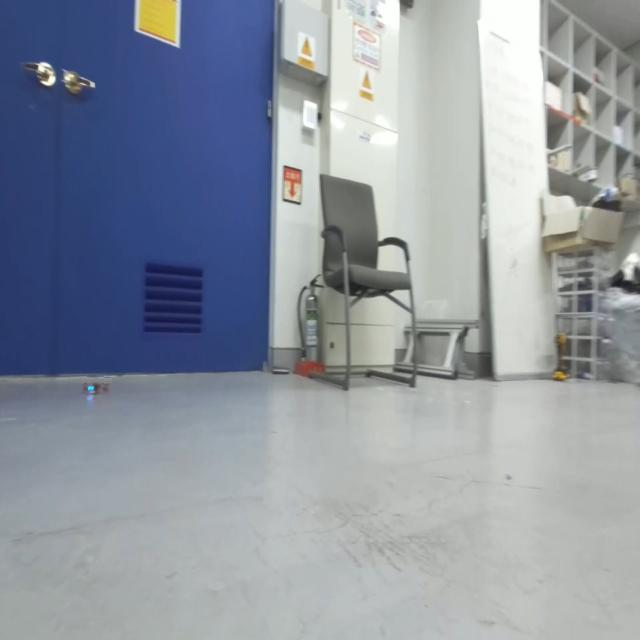crazyflie: (78, 375, 112, 400)
